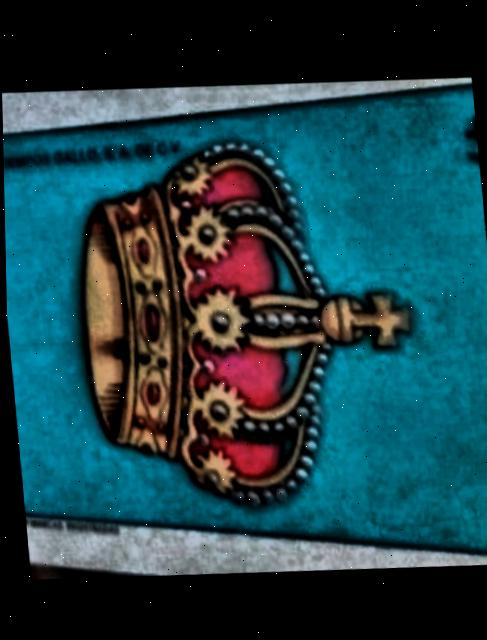La Corona: (2, 81, 487, 550)
